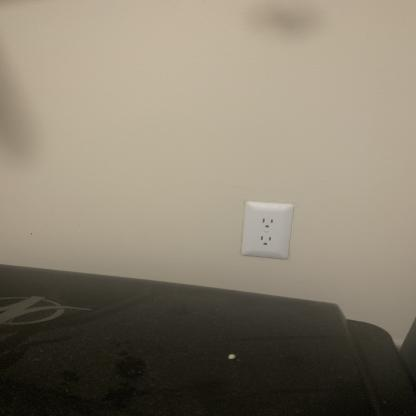OUTLET: (242, 201, 291, 258)
